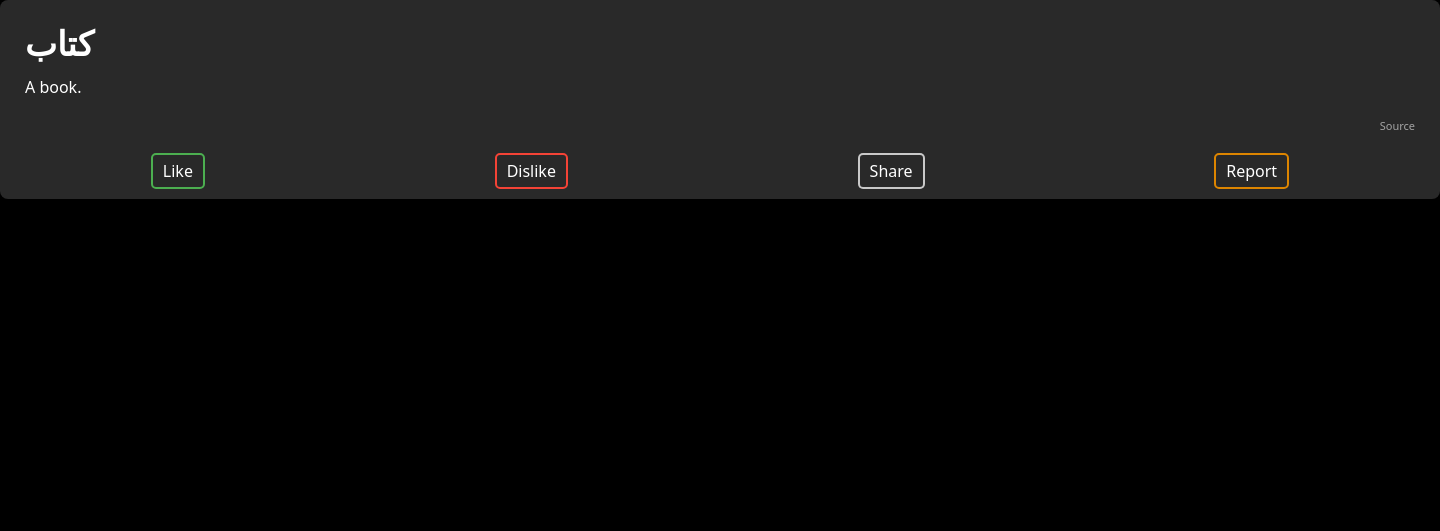
Test: source credits › keeps original technical notation behind Source and its own disclosure
This screenshot has width=1440, height=531.
expect the text "CAPHI++" is not shown: met
Click the heading "Source" at (1397, 125), box [1380,113,1415,137]
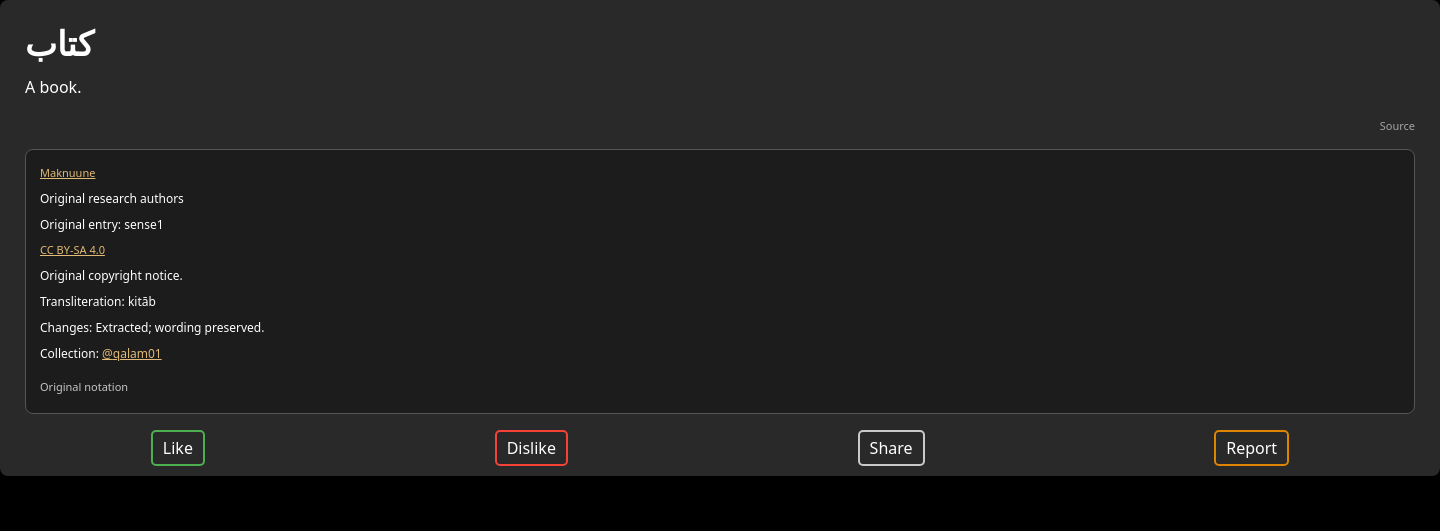
expect the text "CAPHI++" is not shown: met
expect the heading "Original notation" is shown: met
Click the heading "Original notation" at (84, 387), box [40,375,128,399]
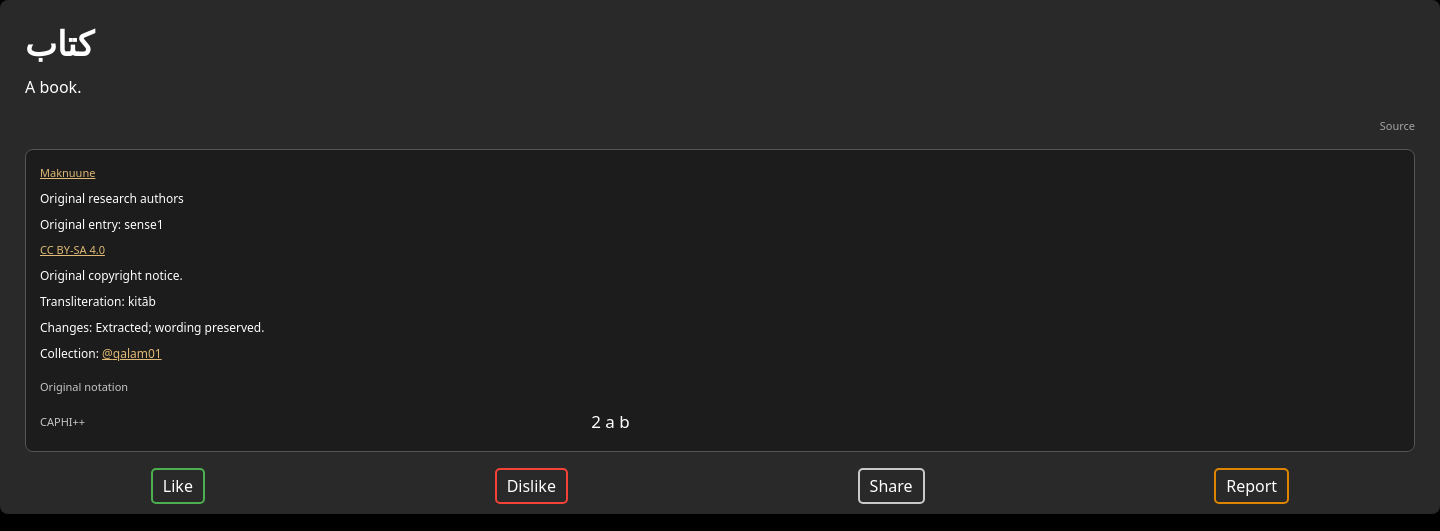
expect the text "CAPHI++" is shown: met, box [40,414,85,429]
